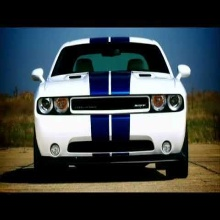no damage: (31, 36, 191, 180)
